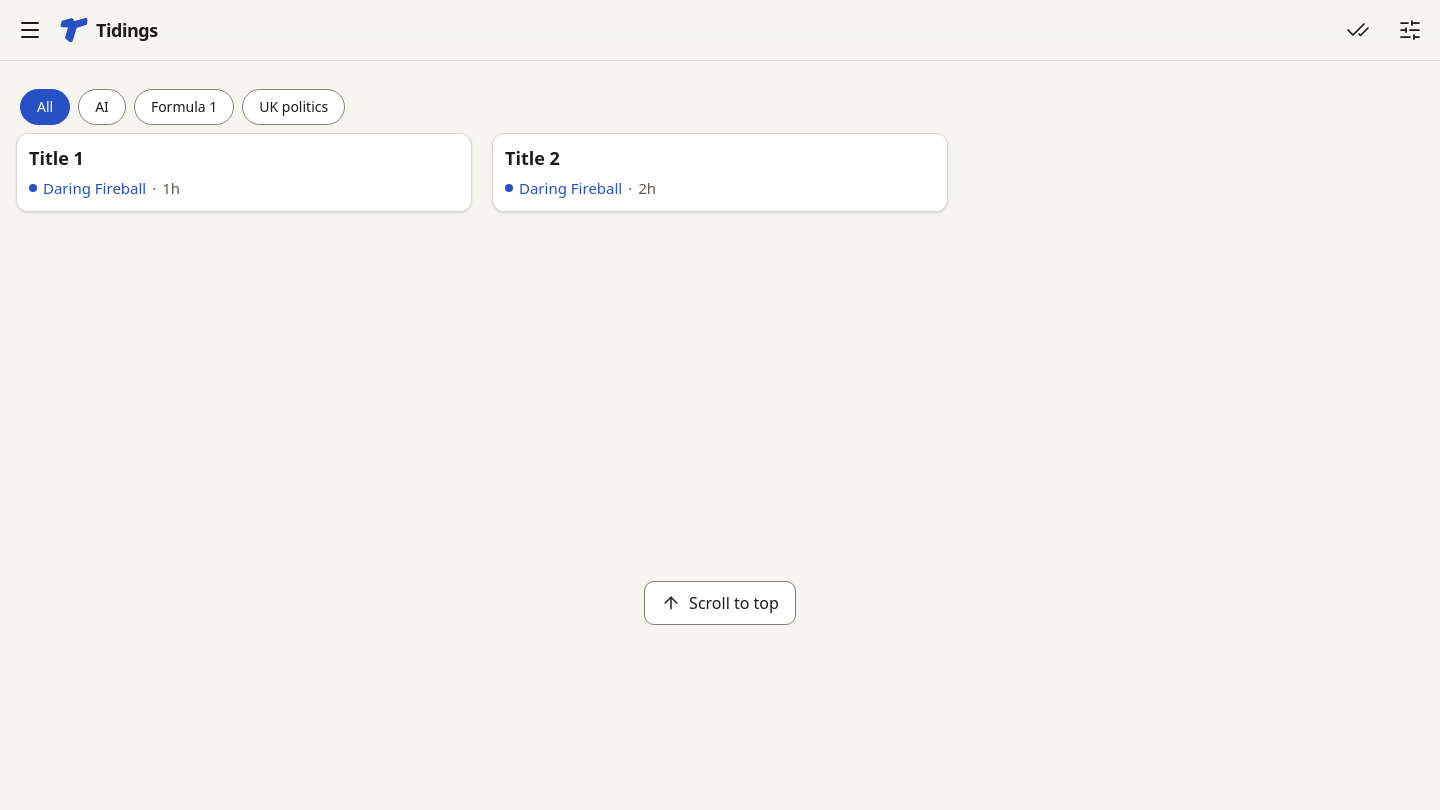
Test: AC2 and AC3: filtering and URL state › selecting a chip filters, sets ?topic= (replace), presses it, announces it and shows it in the header; All clears it
This screenshot has width=1440, height=810.
Expected: the heading "Title 1" is shown, [29,146,84,170]
Click the button "Formula 1".
click(184, 107)  # box [130,85,238,129]
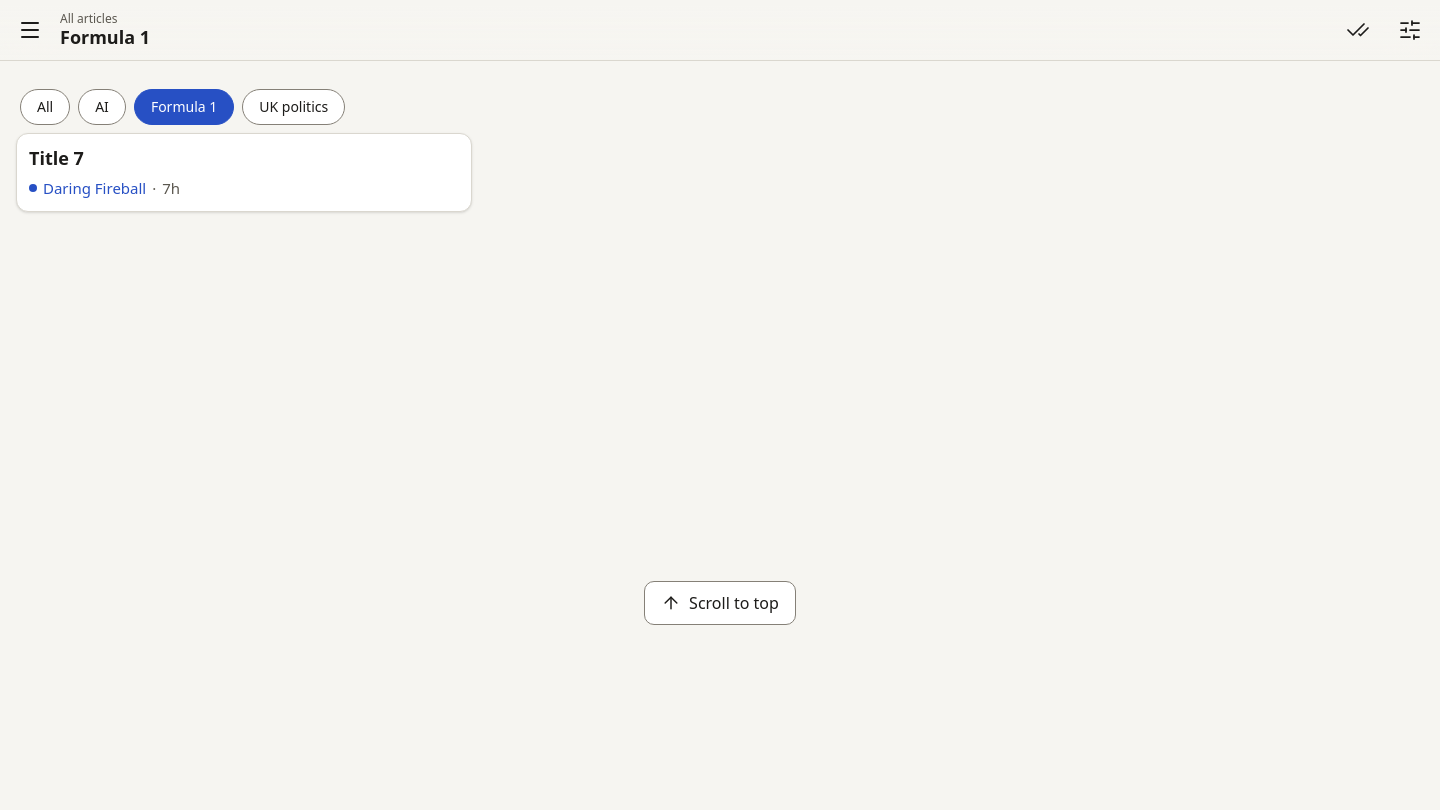
Expected: the heading "Title 7" is shown, [29,146,84,170]
Expected: the link "Title 1" is gone
Expected: the heading "All articles Formula 1" is shown, [60,10,150,49]
Click the button with aria-label "All topics".
click(45, 107)  # box [16,85,74,129]
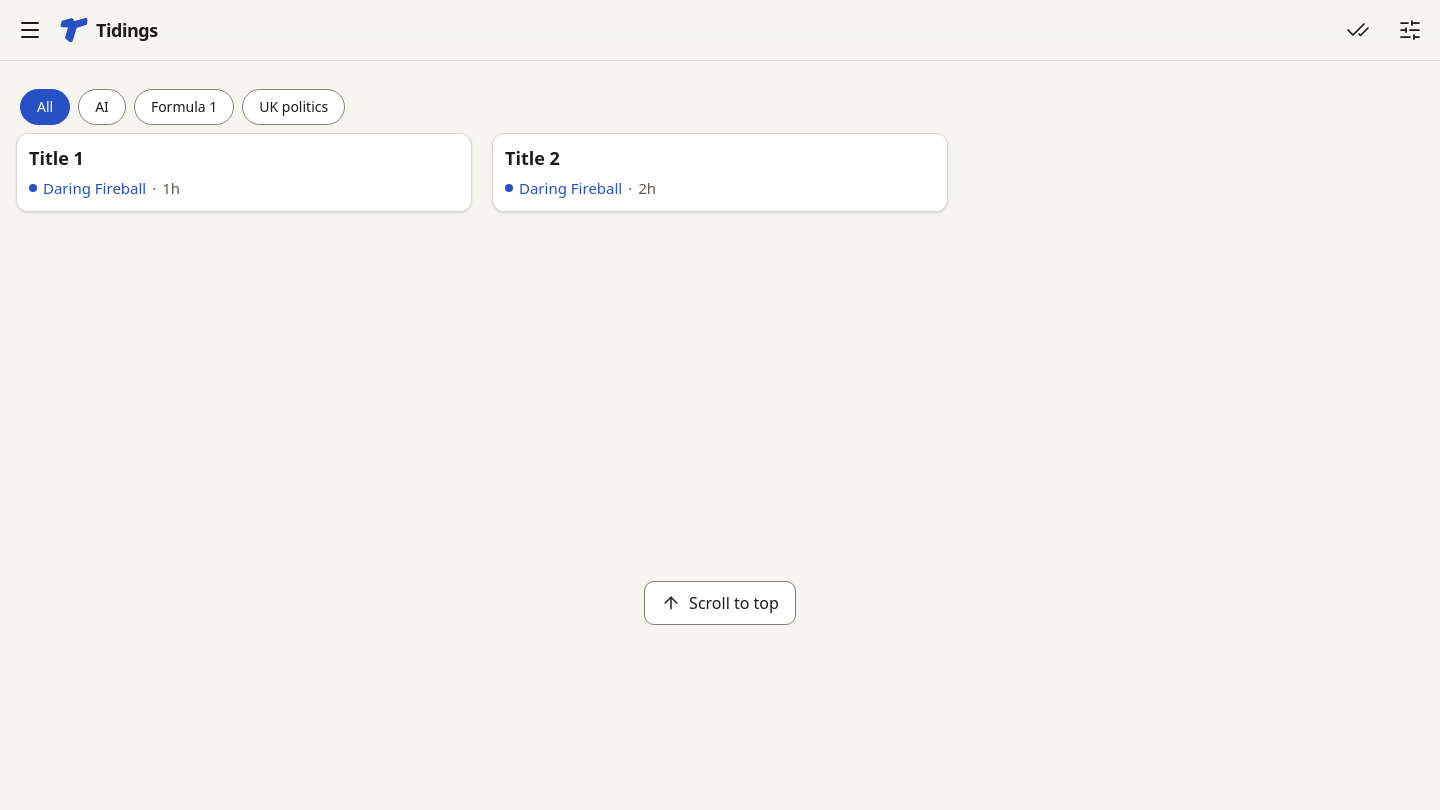
Expected: the heading "Title 1" is shown, [29,146,84,170]
